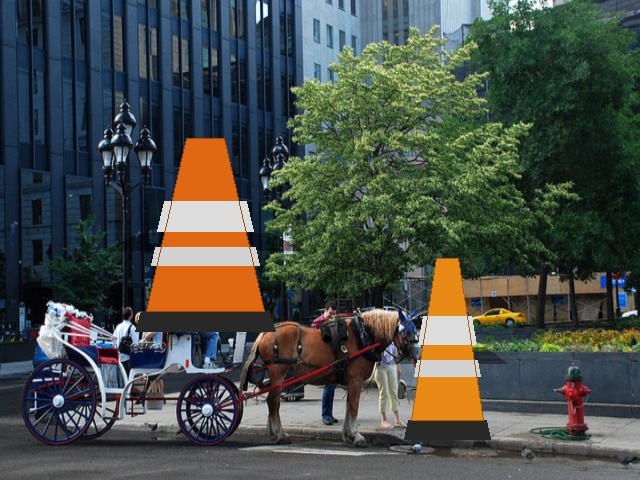traffic-cone: (135, 138, 275, 331), (404, 258, 490, 439)
